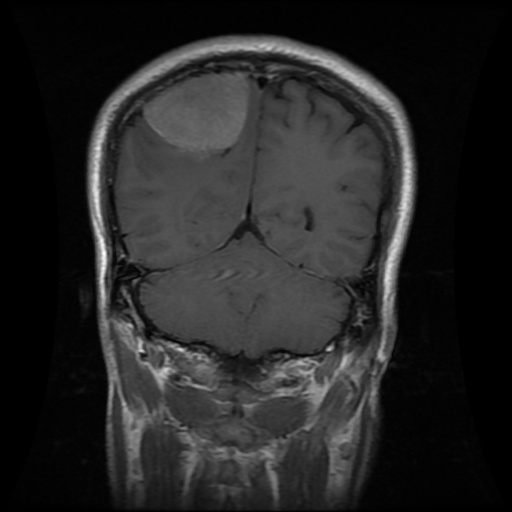meningioma: (143, 70, 249, 153)
